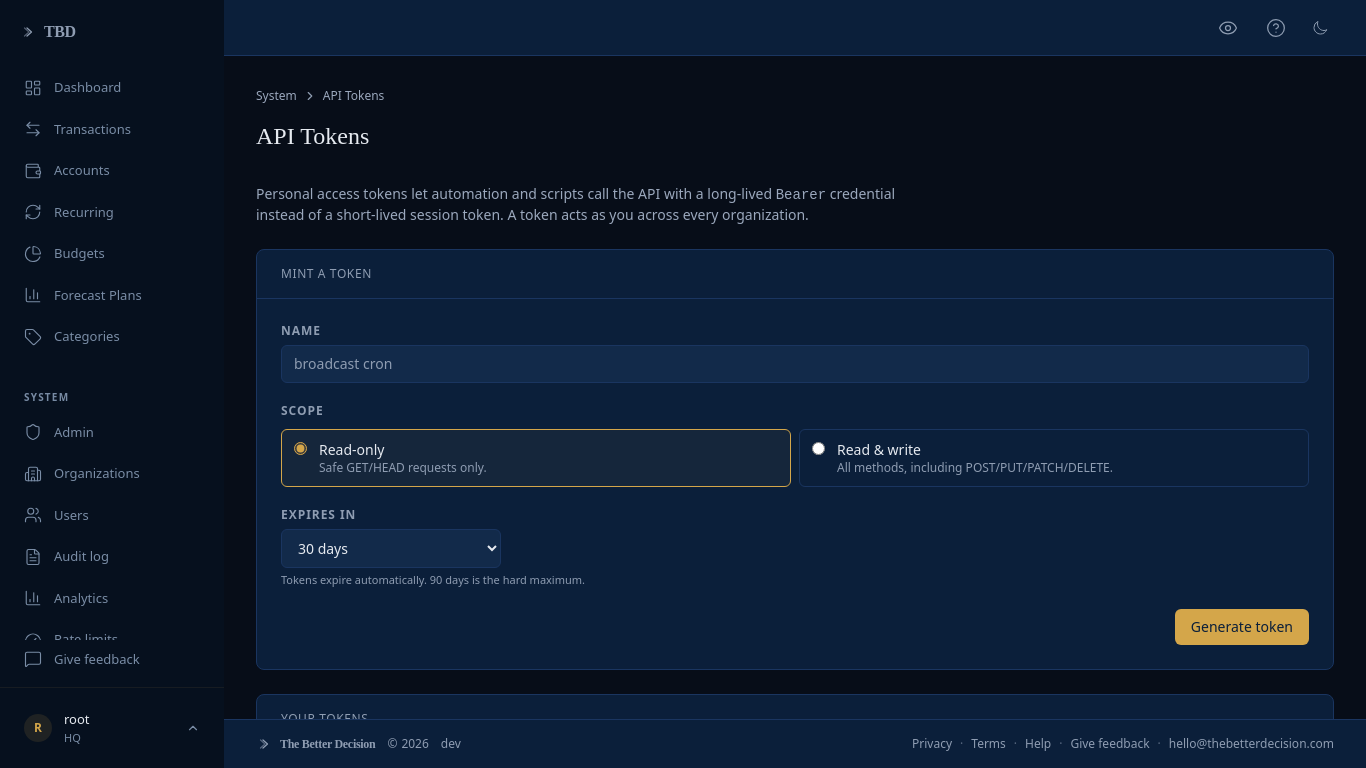
Scenario: /system/api-tokens page › keeps the step-up modal open and shows the error on a failed proof
The image size is (1366, 768).
In the field with test id "mint-name": (795, 364) top-left (281, 345), bottom-right (1309, 383), type "x"
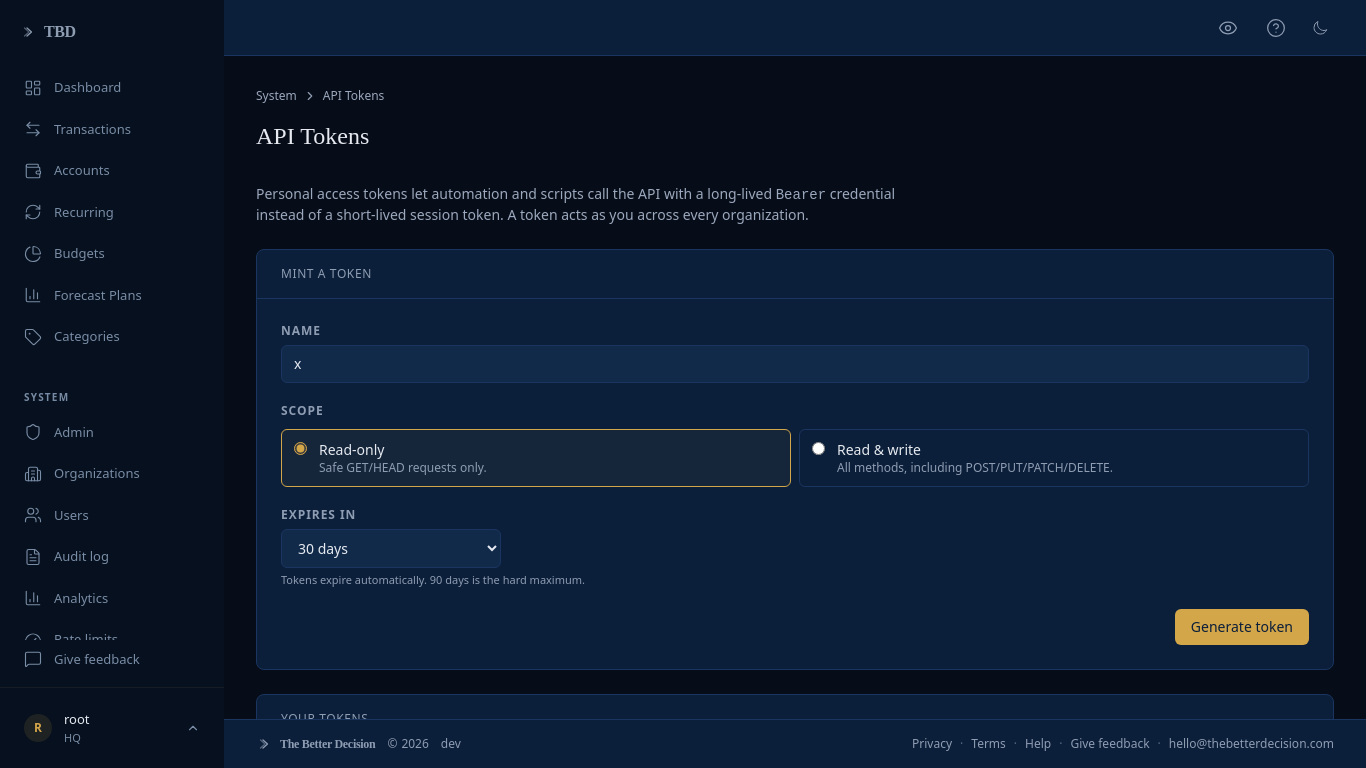
Submit the form with test id "mint-form", box top-left (257, 299), bottom-right (1333, 668)
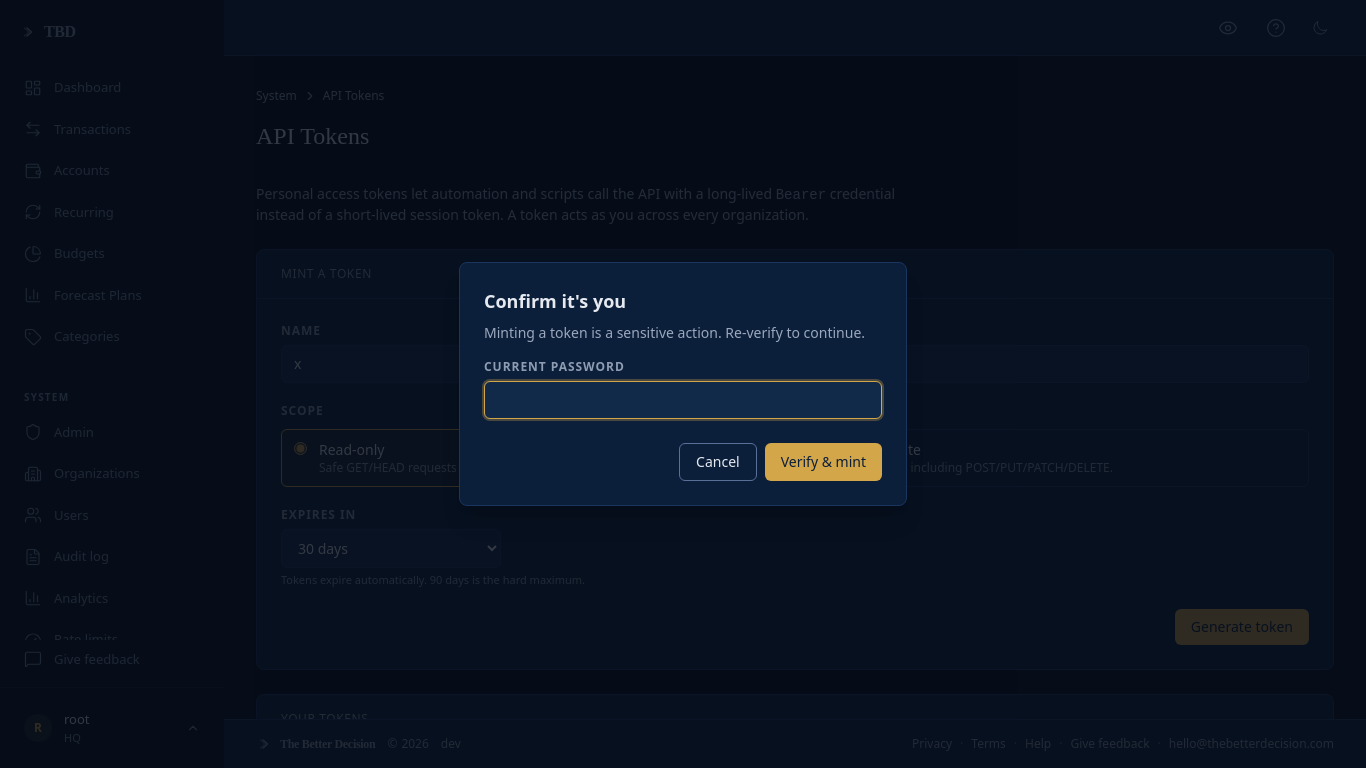
In the password field with test id "stepup-password": (683, 400) top-left (484, 381), bottom-right (882, 419), type "wrong"
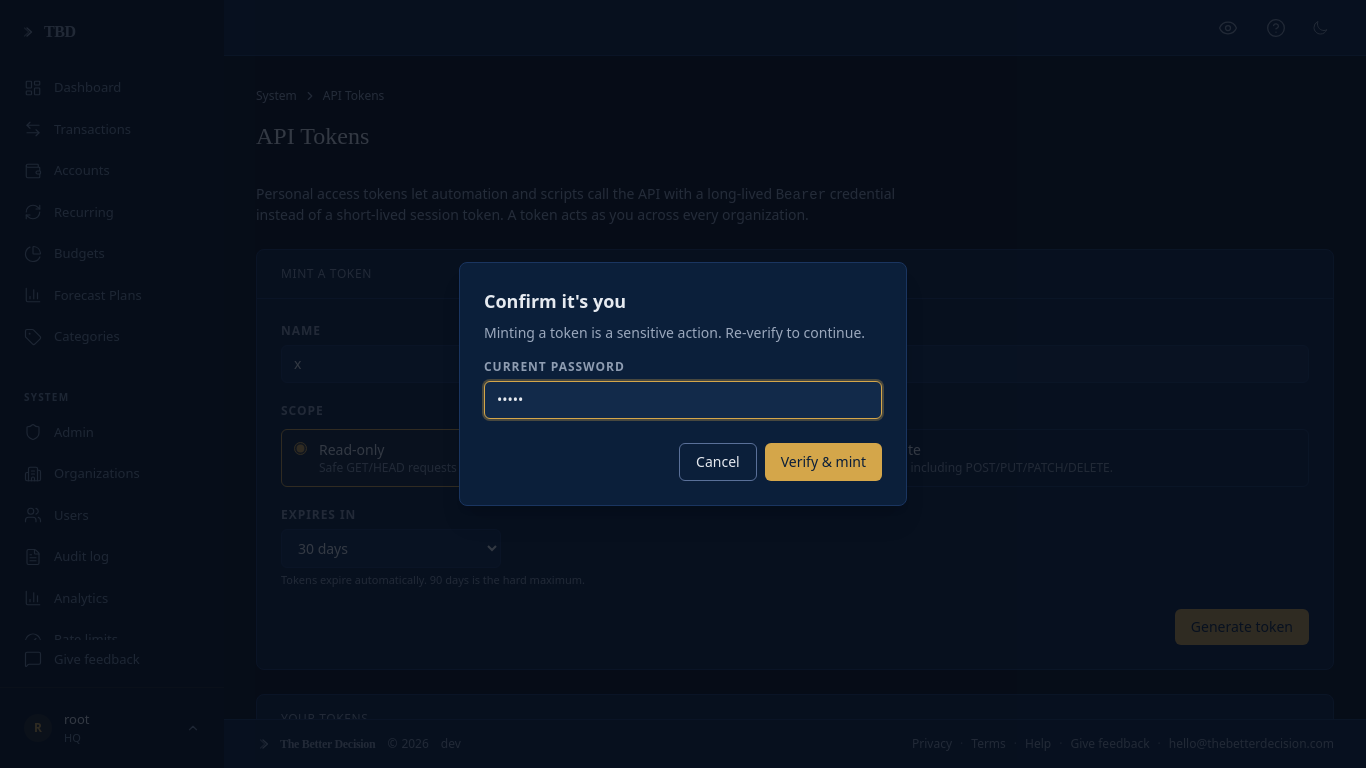
Click the button with test id "stepup-submit": click(823, 462) top-left (765, 443), bottom-right (882, 481)
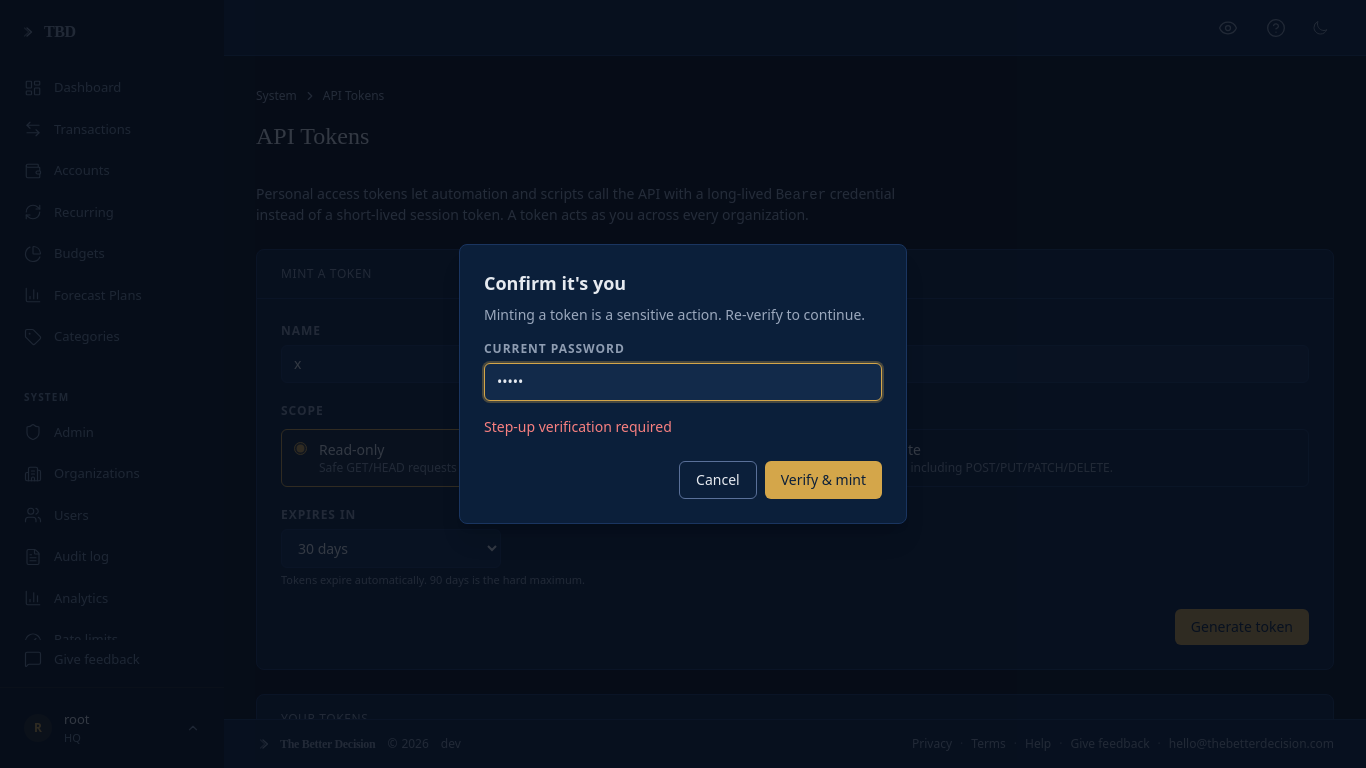
Check: the element with test id "stepup-modal" is shown
Check: the text "Step-up verification required" is shown, box top-left (484, 417), bottom-right (672, 436)
